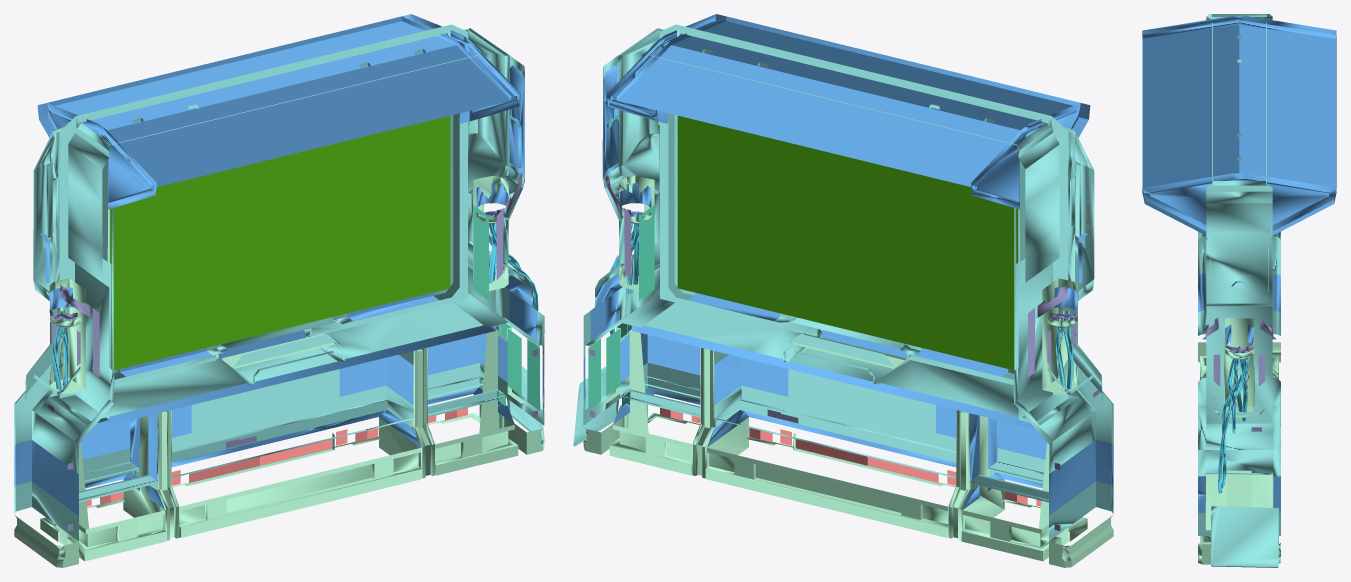
The model's file is screen_advert_1_a.glb.
3 renders of one model, left to right at view 1: azimuth 30°, elevation 25°; view 2: azimuth 150°, elevation 25°; view 3: azimuth 270°, elevation 25°, orthographic. The views are drawn at different scales.
Bounding box in the file's own units: 4.59 × 3.62 × 1.75.
